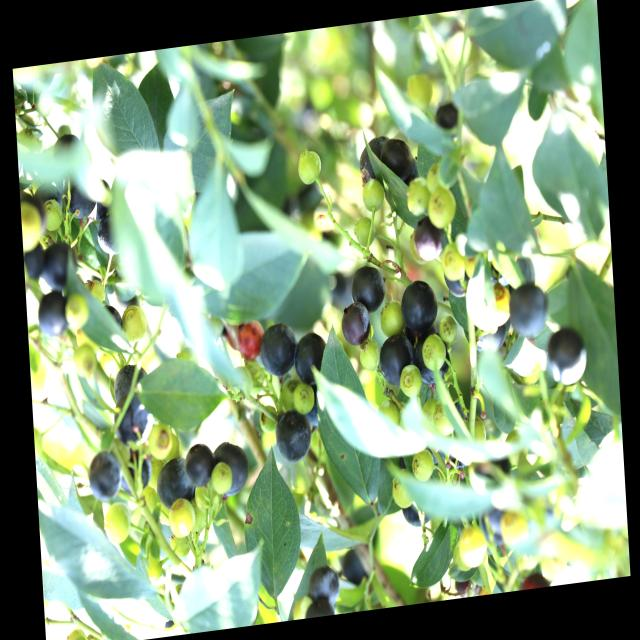blueberry: (207, 436, 249, 502), (399, 270, 443, 332), (545, 324, 587, 387), (154, 451, 195, 514), (506, 282, 549, 342), (273, 408, 315, 468), (258, 318, 296, 382), (376, 332, 415, 390), (345, 265, 386, 320), (291, 328, 327, 390), (86, 447, 123, 503), (114, 398, 156, 446), (43, 242, 81, 292), (415, 334, 450, 388), (110, 362, 150, 406), (378, 136, 413, 183), (183, 438, 214, 490), (339, 302, 371, 348), (65, 178, 98, 222), (307, 564, 341, 606), (37, 293, 69, 337), (94, 216, 128, 256), (441, 263, 473, 303)
blueberry-halfripe: (237, 315, 268, 362)
blueberry-unripe: (456, 520, 489, 572), (426, 186, 457, 233), (497, 505, 530, 547), (102, 499, 132, 545), (20, 196, 44, 252), (168, 494, 196, 540), (486, 284, 514, 330), (121, 301, 149, 346), (403, 174, 432, 217), (390, 466, 418, 510), (294, 148, 322, 190), (61, 294, 91, 333), (420, 332, 448, 373), (379, 296, 406, 338), (360, 176, 387, 216), (146, 424, 174, 462), (432, 398, 458, 438), (358, 335, 384, 373), (441, 242, 467, 280), (40, 195, 65, 234), (231, 361, 257, 397), (410, 446, 434, 485), (398, 364, 424, 399), (291, 379, 316, 414), (198, 479, 220, 518), (353, 215, 378, 249), (74, 343, 98, 378), (468, 411, 488, 453), (376, 398, 402, 430), (211, 461, 233, 498), (137, 483, 159, 517), (190, 494, 209, 533), (84, 275, 107, 307), (146, 456, 168, 488), (258, 402, 279, 434), (171, 533, 194, 561), (438, 315, 459, 345)
